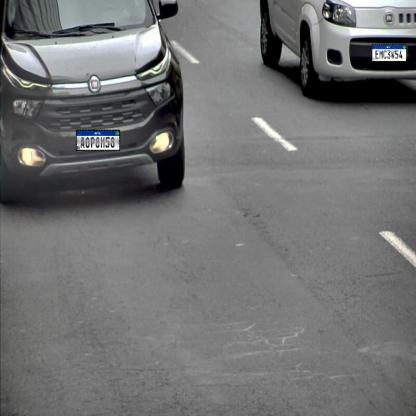PlacaM: (76, 130, 120, 151), (372, 44, 406, 62)
